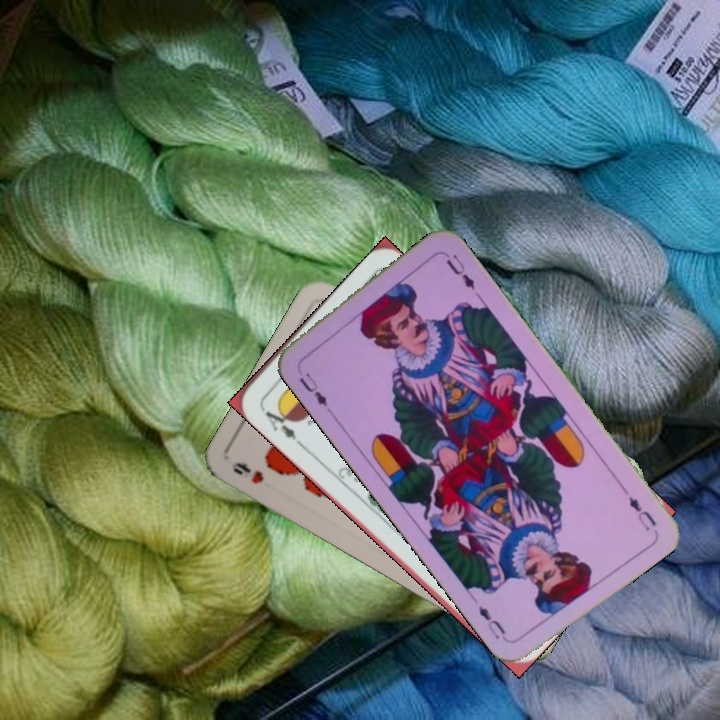EA: (257, 401, 304, 448)
EU: (624, 492, 659, 534), (295, 368, 330, 409)
H9: (227, 458, 266, 487)
